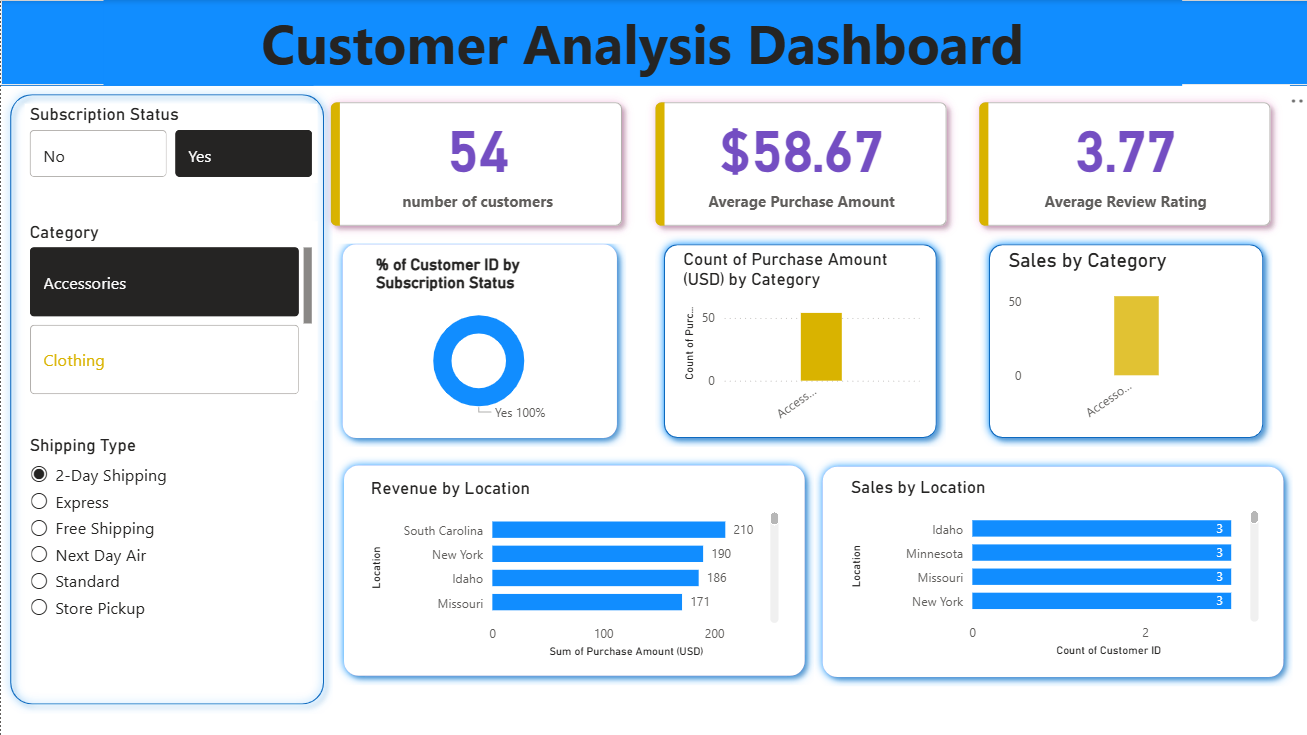

The dashboard page shown, as its layout file describes it:
{"tool":"powerbi","page":{"name":"Page 1","canvas":[1280,720],"ordinal":0},"visuals":[{"type":"shape","box":[0,0,1280,83.8],"z":0},{"type":"shape","box":[325,230,286.2,207.5],"z":1000},{"type":"cardVisual","fields":{"Data":["customer_shopping_behavior.number of customers","customer_shopping_behavior.Average Purchase Amount","customer_shopping_behavior.Average Review Rating"]},"box":[306.2,83.8,955,155],"z":2000},{"type":"donutChart","title":"% of Customer ID by Subscription Status","fields":{"Category":["customer_shopping_behavior.Subscription Status"],"Y":["CountNonNull(customer_shopping_behavior.Customer ID)"]},"box":[362.5,250,211.2,167.5],"z":3000},{"type":"shape","box":[640,230,285,207.5],"z":4000},{"type":"shape","box":[957.5,230,286.2,207.5],"z":5000},{"type":"clusteredColumnChart","title":"Sales by Category","fields":{"Category":["customer_shopping_behavior.Category"],"Y":["CountNonNull(customer_shopping_behavior.Customer ID)"]},"box":[981.2,243.8,240,180],"z":6000},{"type":"shape","box":[0,83.8,325,615],"z":7000},{"type":"advancedSlicerVisual","fields":{"Values":["customer_shopping_behavior.Subscription Status"]},"box":[23.8,101.2,286.2,77.5],"z":8000},{"type":"advancedSlicerVisual","fields":{"Values":["customer_shopping_behavior.Category"]},"box":[23.8,216.2,286.2,175],"z":10000},{"type":"listSlicer","fields":{"Values":["customer_shopping_behavior.Shipping Type"]},"box":[23.8,425,176.2,240],"z":11000},{"type":"clusteredColumnChart","fields":{"Category":["customer_shopping_behavior.Category"],"Y":["CountNonNull(customer_shopping_behavior.Purchase Amount (USD))"]},"box":[662.5,243.8,241.2,181.2],"z":12000},{"type":"shape","box":[326.2,446.2,468.8,223.8],"z":13000},{"type":"clusteredBarChart","title":"Revenue by Location","fields":{"Y":["Sum(customer_shopping_behavior.Purchase Amount (USD))"],"Category":["customer_shopping_behavior.Location"]},"box":[357.5,467.5,408.8,181.2],"z":14000},{"type":"shape","box":[795,447.5,468.8,223.8],"z":15000},{"type":"clusteredBarChart","title":"Sales by Location","fields":{"Y":["CountNonNull(customer_shopping_behavior.Customer ID)"],"Category":["customer_shopping_behavior.Location"]},"box":[826.2,466.2,408.8,181.2],"z":16000},{"type":"textbox","box":[100,0,1055,83.8],"z":17000}]}

Visuals, with their boxes in screenshot pixels (x1, y1, x2, y2), scaled from the page's 1280x720 canvas onto the 1307x735 screenshot:
shape: l=0, t=0, r=1306, b=86
shape: l=332, t=235, r=624, b=447
cardVisual - customer_shopping_behavior.number of customers x customer_shopping_behavior.Average Purchase Amount: l=313, t=86, r=1288, b=244
"% of Customer ID by Subscription Status" donutChart: l=370, t=255, r=586, b=426
shape: l=654, t=235, r=945, b=447
shape: l=978, t=235, r=1270, b=447
"Sales by Category" clusteredColumnChart: l=1002, t=249, r=1247, b=433
shape: l=0, t=86, r=332, b=713
advancedSlicerVisual - customer_shopping_behavior.Subscription Status: l=24, t=103, r=317, b=182
advancedSlicerVisual - customer_shopping_behavior.Category: l=24, t=221, r=317, b=399
listSlicer - customer_shopping_behavior.Shipping Type: l=24, t=434, r=204, b=679
clusteredColumnChart - customer_shopping_behavior.Category x CountNonNull(customer_shopping_behavior.Purchase Amount (USD)): l=676, t=249, r=923, b=434
shape: l=333, t=455, r=812, b=684
"Revenue by Location" clusteredBarChart: l=365, t=477, r=782, b=662
shape: l=812, t=457, r=1290, b=685
"Sales by Location" clusteredBarChart: l=844, t=476, r=1261, b=661
textbox: l=102, t=0, r=1179, b=86
